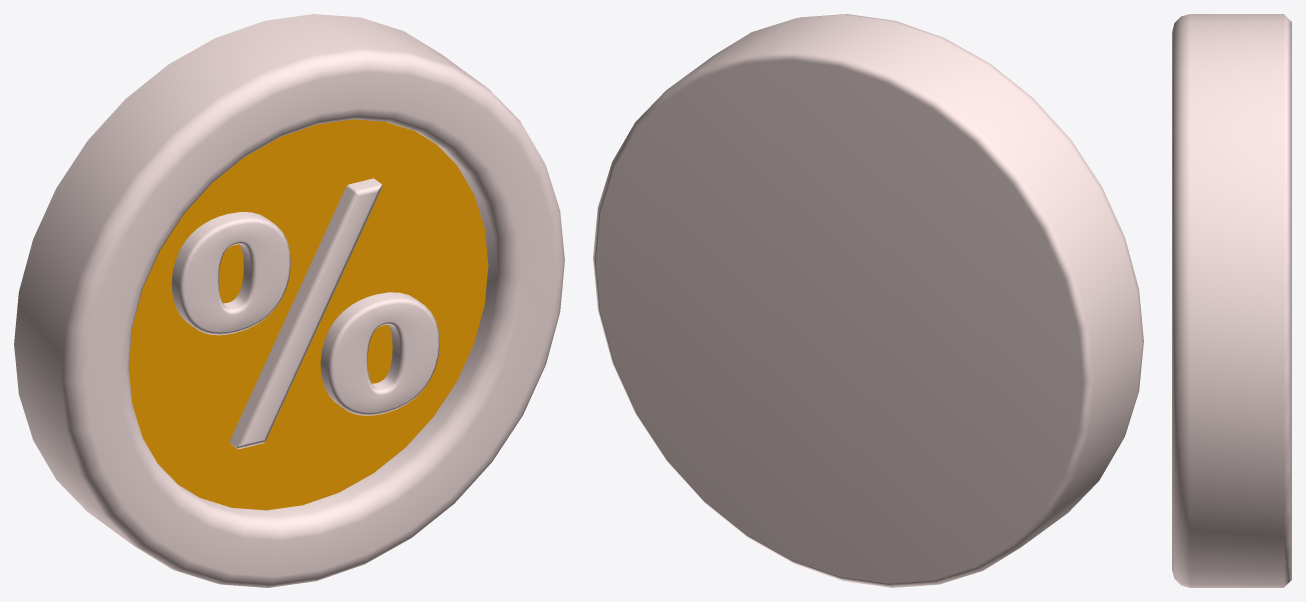
The model's file is Public_10_Discount_Sign_2.glb.
The picture shows the model from 3 angles, left to right: view 1: azimuth 30°, elevation 25°; view 2: azimuth 150°, elevation 25°; view 3: azimuth 270°, elevation 25°; orthographic projection.
Visible parts, largest first — view 1: Public_10_Discount_Sign_2; view 2: Public_10_Discount_Sign_2; view 3: Public_10_Discount_Sign_2.
Boxes of the visible parts, x1=… form: Public_10_Discount_Sign_2: x1=14, y1=14, x2=564, y2=587; Public_10_Discount_Sign_2: x1=593, y1=14, x2=1143, y2=587; Public_10_Discount_Sign_2: x1=1172, y1=14, x2=1291, y2=587.
Bounding box in the file's own units: 3.35 × 3.35 × 0.699.
Materials: 1 (1 with a texture image).
